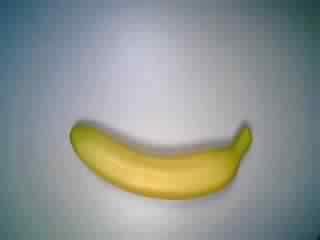banana: (65, 118, 261, 206)
